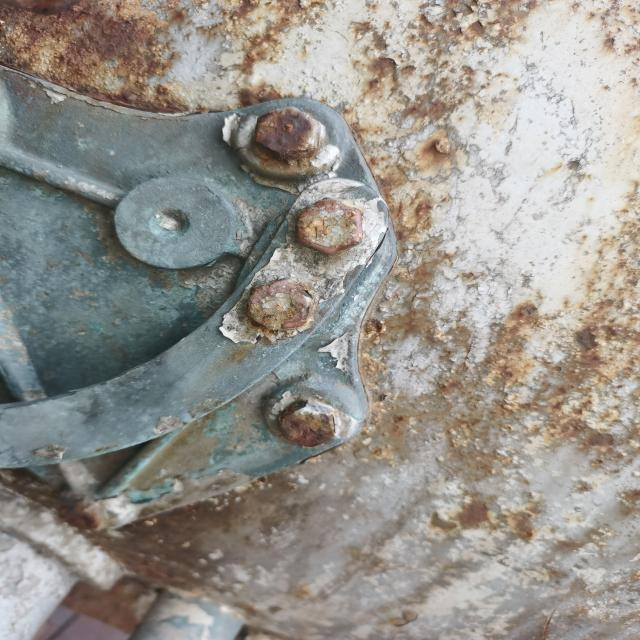bolt head: (289, 194, 370, 258), (248, 106, 330, 163), (242, 277, 320, 335), (271, 397, 343, 450)
